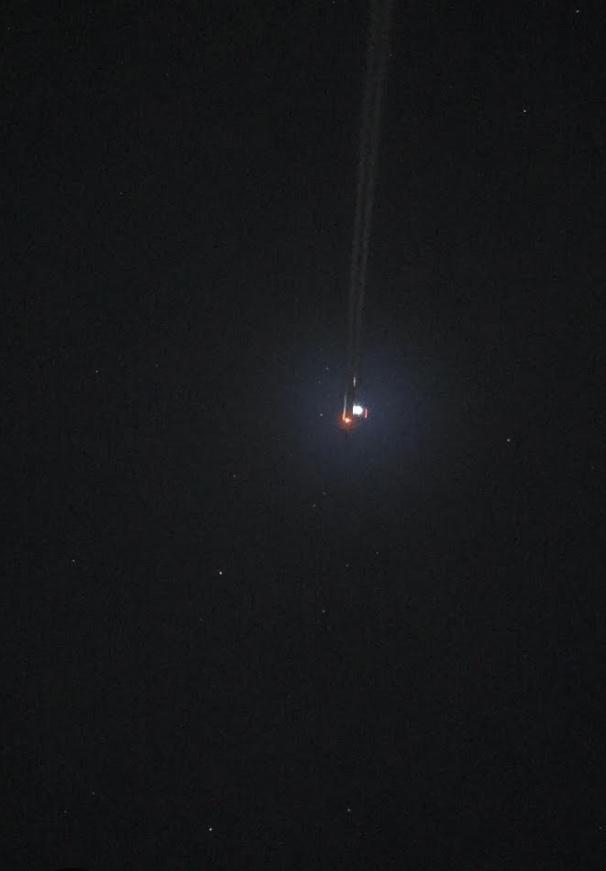Plane: (325, 4, 394, 478)
